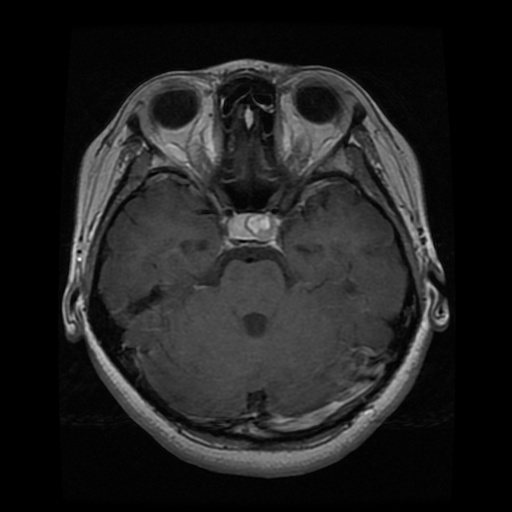pituitary: (228, 213, 277, 239)
